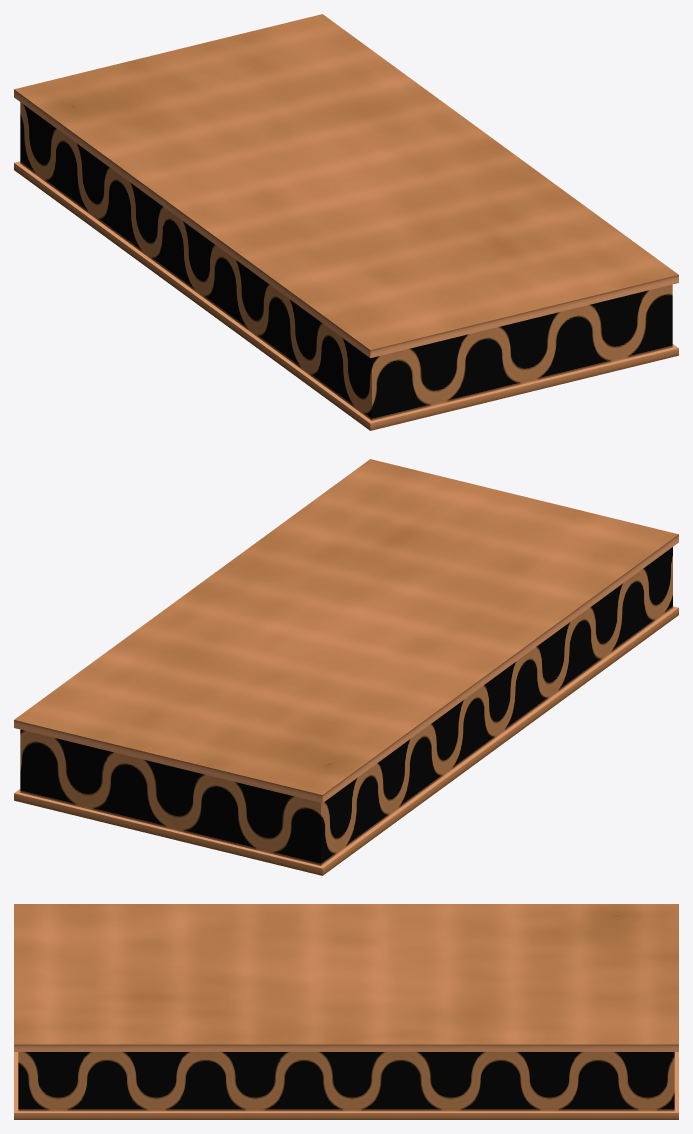
File: M_Cardboard_Square_1x2.fbx
3 views of the same model, one above another, from view 1: azimuth 30°, elevation 25°; view 2: azimuth 150°, elevation 25°; view 3: azimuth 270°, elevation 25° (orthographic). The views are drawn at different scales.
Visible parts, largest first — view 1: Panel, Sides; view 2: Panel, Sides; view 3: Panel, Sides.
Part boxes in pixels (left/top/right/bottom): Panel: left=14, top=14, right=678, bottom=349; Sides: left=14, top=89, right=678, bottom=430; Panel: left=14, top=459, right=678, bottom=794; Sides: left=14, top=534, right=678, bottom=875; Panel: left=14, top=904, right=678, bottom=1044; Sides: left=14, top=1044, right=678, bottom=1119.
Bounding box in the file's own units: 2 × 0.5 × 4.
1 material, 1 textured.
